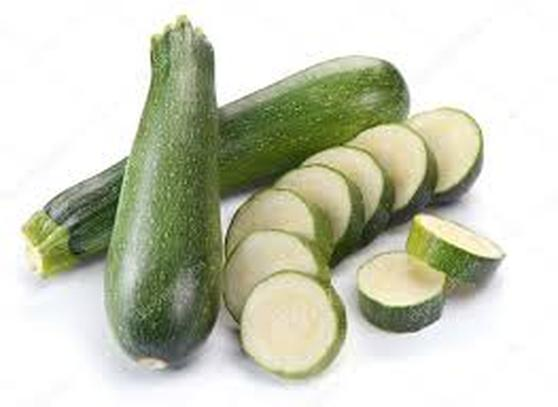zucchini: (103, 24, 226, 372)
